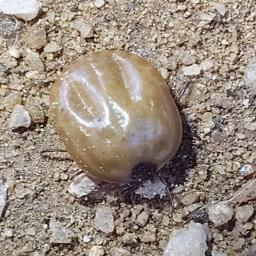Rhipicephalus sanguineus: (41, 50, 181, 194)
